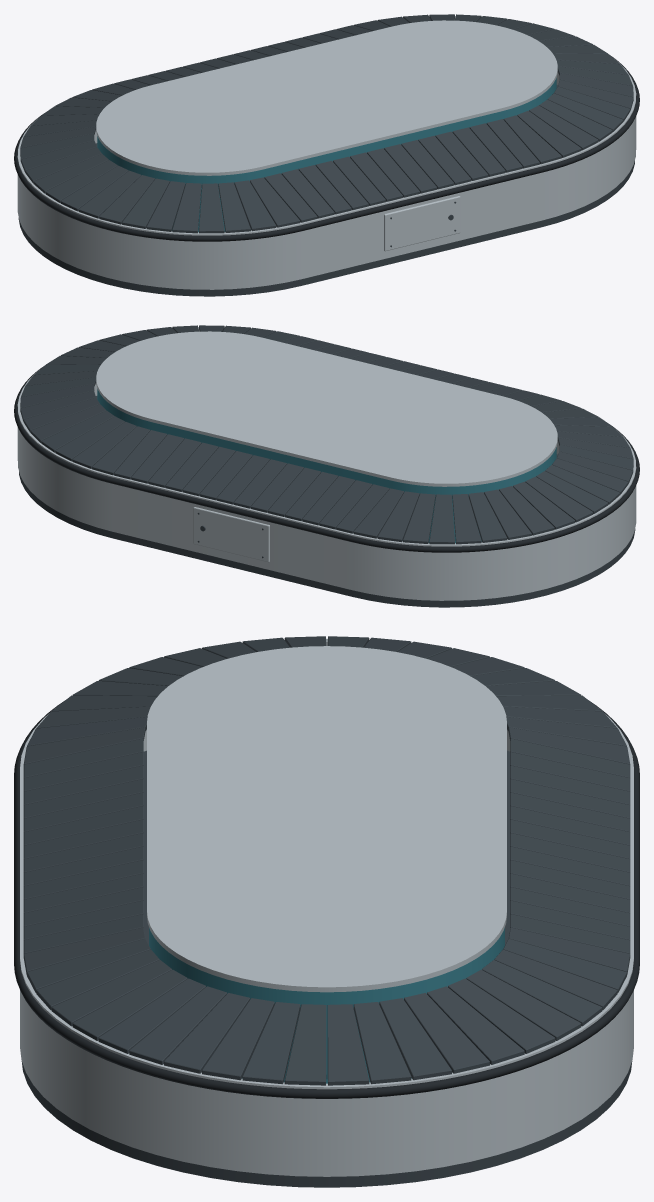
File: city-baggage-reclaim-carousel.glb
3 renders of one model, top to bottom at view 1: azimuth 30°, elevation 25°; view 2: azimuth 150°, elevation 25°; view 3: azimuth 270°, elevation 25°, orthographic. The views are drawn at different scales.
Parts seen in each view (by area): view 1: Assembly | Satin terminal fixture metal, Assembly | Dark service trim, Assembly | Dark belt curtain and tire rubber, Assembly | Muted teal equipment finish; view 2: Assembly | Satin terminal fixture metal, Assembly | Dark service trim, Assembly | Dark belt curtain and tire rubber, Assembly | Muted teal equipment finish; view 3: Assembly | Satin terminal fixture metal, Assembly | Dark service trim, Assembly | Dark belt curtain and tire rubber, Assembly | Muted teal equipment finish.
Boxes of the visible parts, box(x1,y1,x2,y2) form: Assembly | Satin terminal fixture metal: box(17, 16, 636, 289); Assembly | Dark service trim: box(18, 14, 634, 296); Assembly | Dark belt curtain and tire rubber: box(14, 56, 639, 241); Assembly | Muted teal equipment finish: box(97, 78, 556, 232); Assembly | Satin terminal fixture metal: box(17, 327, 636, 600); Assembly | Dark service trim: box(19, 325, 635, 607); Assembly | Dark belt curtain and tire rubber: box(14, 367, 639, 552); Assembly | Muted teal equipment finish: box(97, 389, 556, 543); Assembly | Satin terminal fixture metal: box(20, 638, 633, 1176); Assembly | Dark service trim: box(21, 636, 632, 1187); Assembly | Dark belt curtain and tire rubber: box(14, 701, 639, 1098); Assembly | Muted teal equipment finish: box(149, 927, 504, 1083).
Size of the model in its own units: 4.32 by 0.745 by 2.52.
